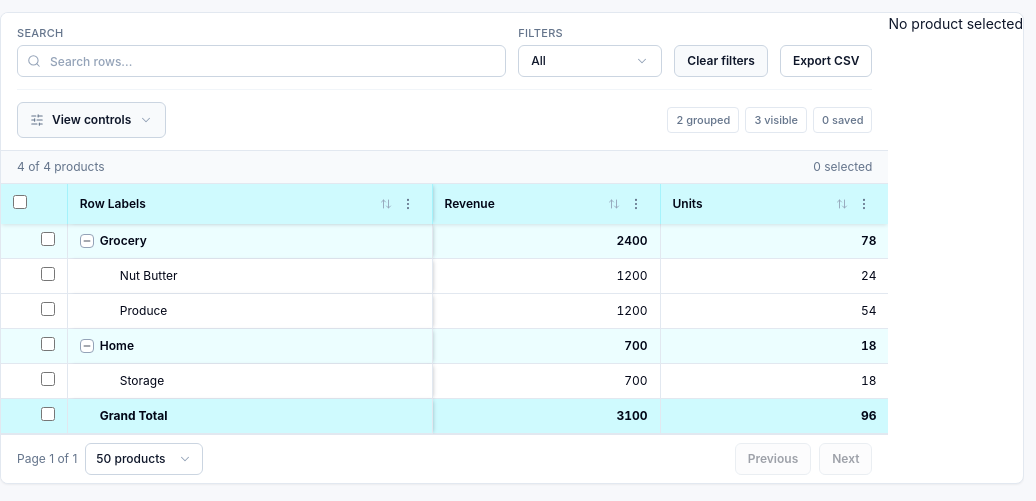
Scenario: DataGrid pivot layout mode › renders a compact pivot table and lets group rows toggle expansion
Expected: the checkbox named "Select all filtered source rows" is shown, [13,195,27,209]
Expected: the text "Page 1 of 1" is shown, [17,451,77,467]
Click the button named "Toggle Grocery group" at (87,241), box [80,234,94,248]
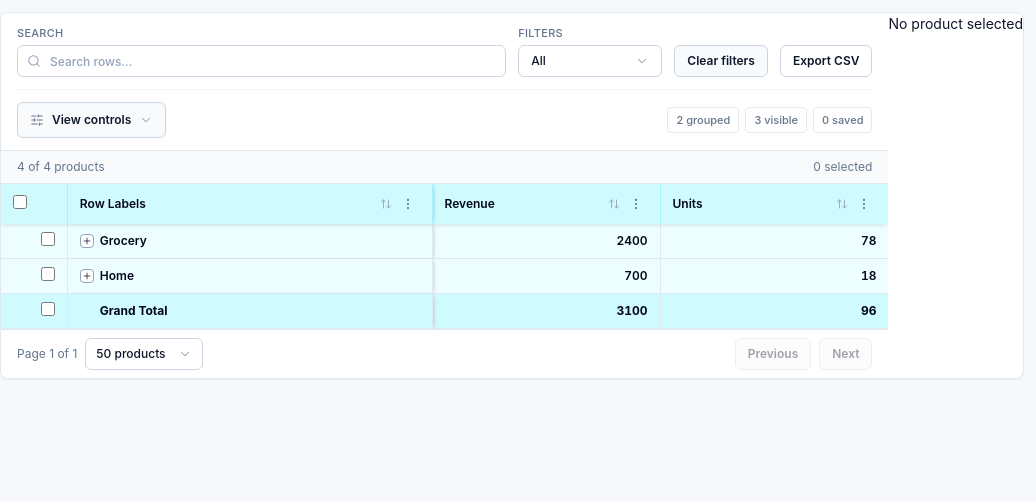
Now the text "Nut Butter" is gone
Now the text "Produce" is gone
Click the button named "Toggle Grocery group" at (87,241), box [80,234,94,248]
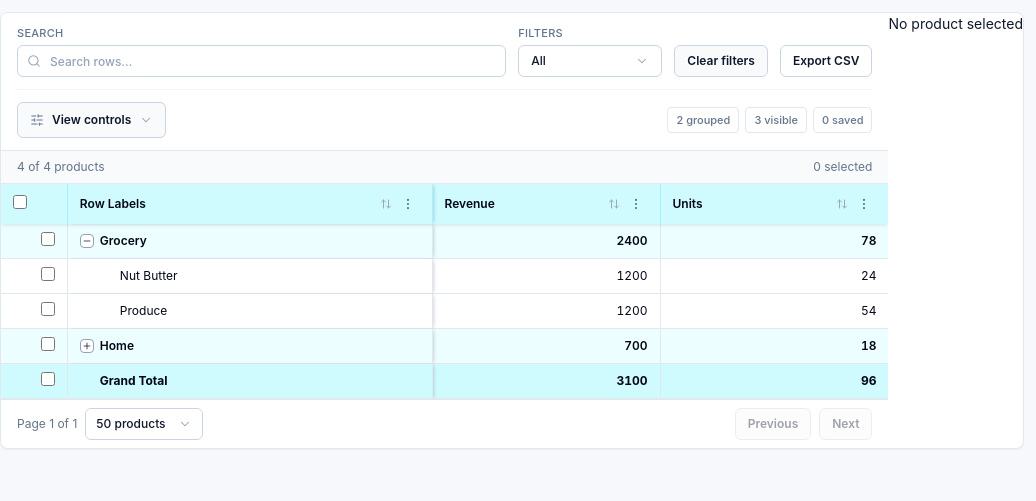
Now the text "Nut Butter" is shown, box [120,268,178,284]
